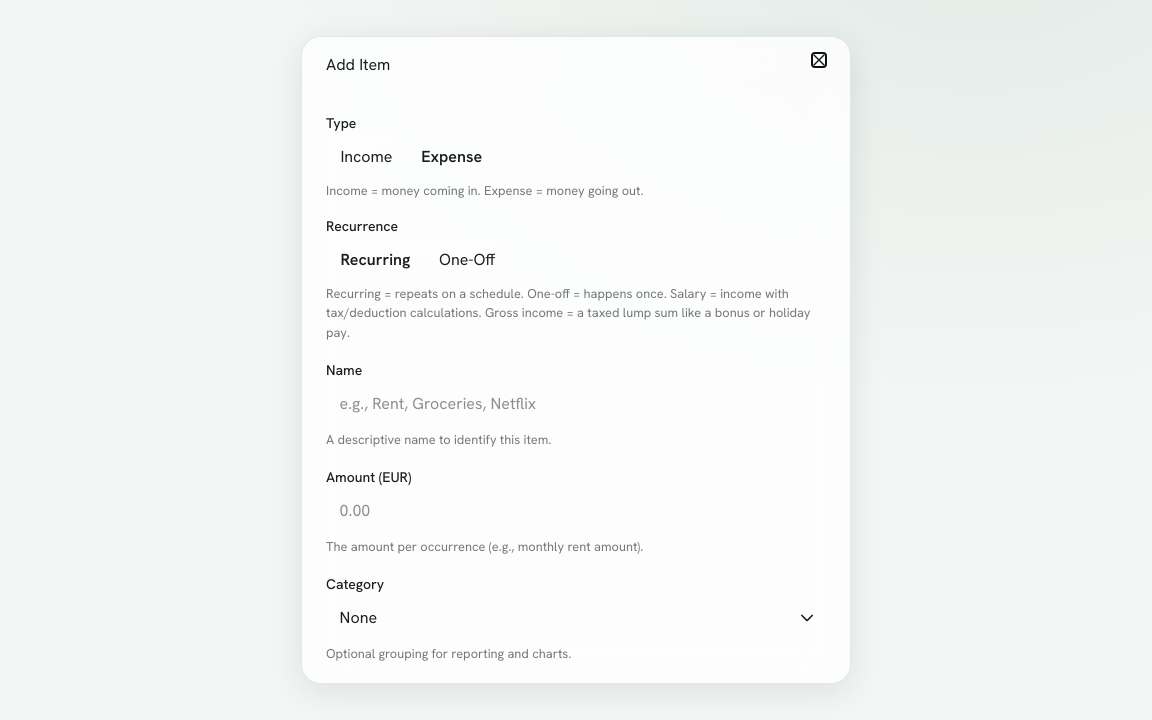
CashflowItemModal (quick-add create form) › auto-suggests the Entertainment category when the name is Netflix
Type "Netflix" into the field with placeholder "e.g., Rent, Groceries, Netflix". click: [576, 404]
box: x1=326 y1=382 x2=826 y2=426
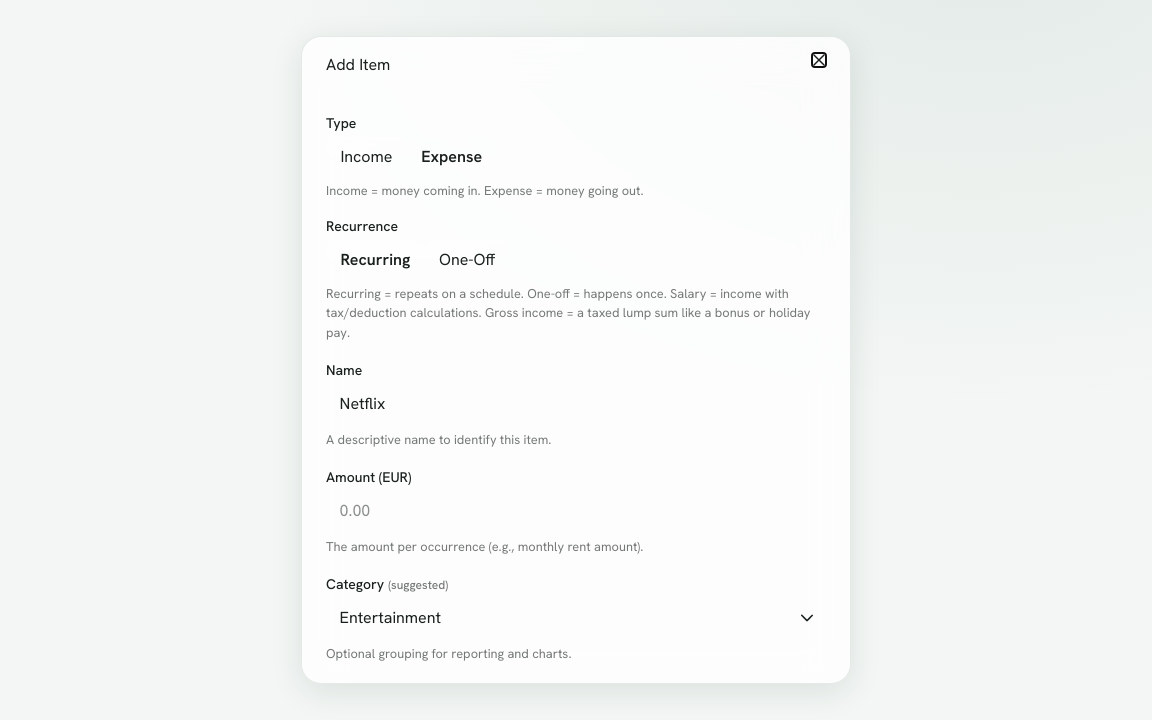
Check: the text "(suggested)" is shown, box x1=388 y1=577 x2=448 y2=593
